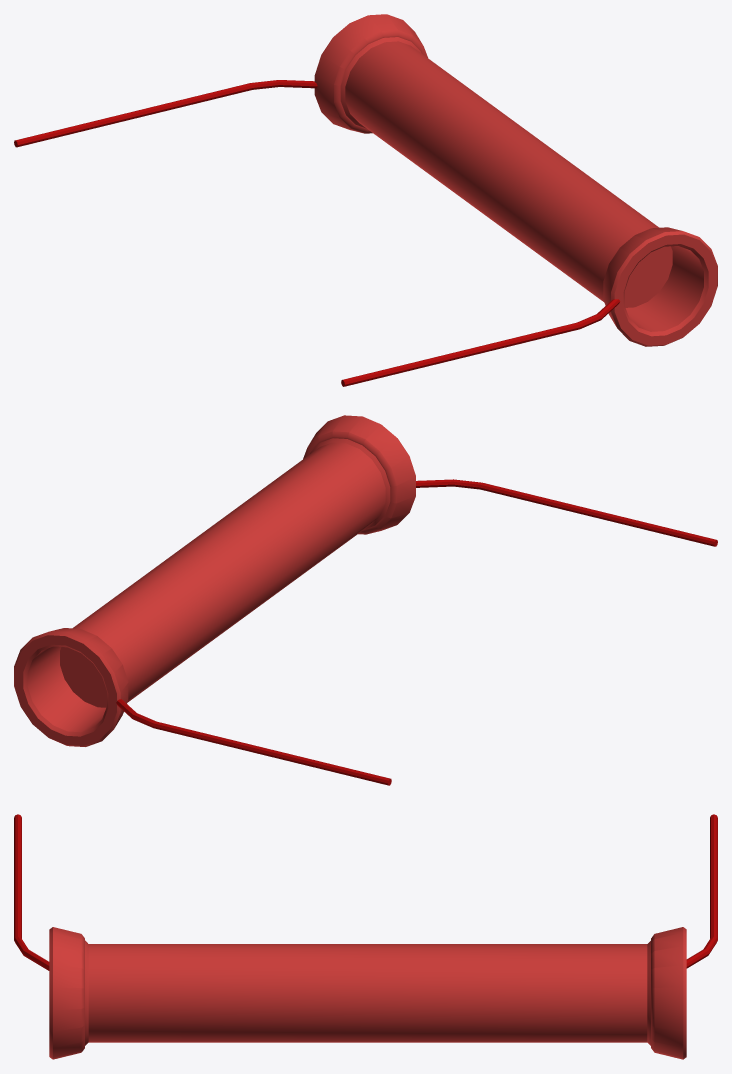
Rendered from elements016.fbx.
3 renders of one model, top to bottom at view 1: azimuth 30°, elevation 25°; view 2: azimuth 150°, elevation 25°; view 3: azimuth 270°, elevation 25°, orthographic. The views are drawn at different scales.
Visible parts, largest first — view 1: element016_LOD0; view 2: element016_LOD0; view 3: element016_LOD0.
Boxes of the visible parts, bbox=[...] form: element016_LOD0: bbox=[14, 14, 717, 386]; element016_LOD0: bbox=[14, 415, 717, 785]; element016_LOD0: bbox=[14, 814, 717, 1059].
Size of what is drawn, in the model's own units: 1.32 by 0.3674 by 1.94.
